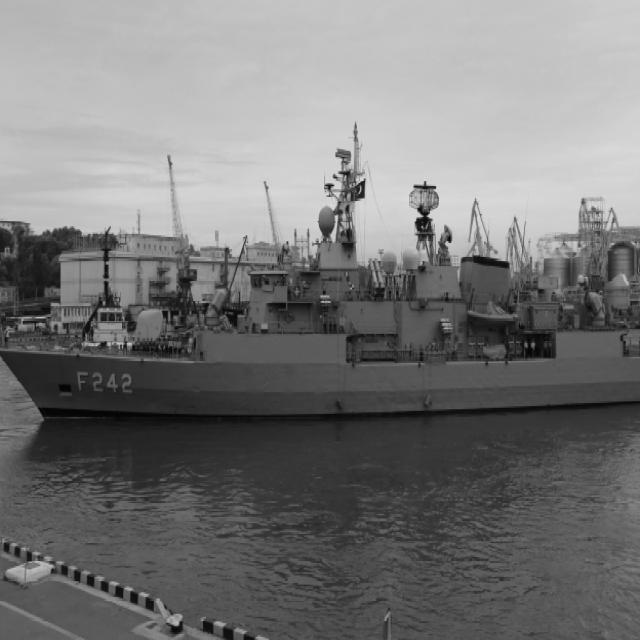Fragata: (1, 129, 640, 440)
